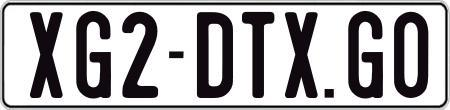0: (393, 12, 431, 104)
2: (119, 9, 158, 101)
D: (196, 10, 234, 99)
G: (76, 8, 116, 97), (346, 10, 383, 103)
T: (242, 12, 275, 102)
X: (29, 9, 64, 101), (285, 12, 318, 98)
